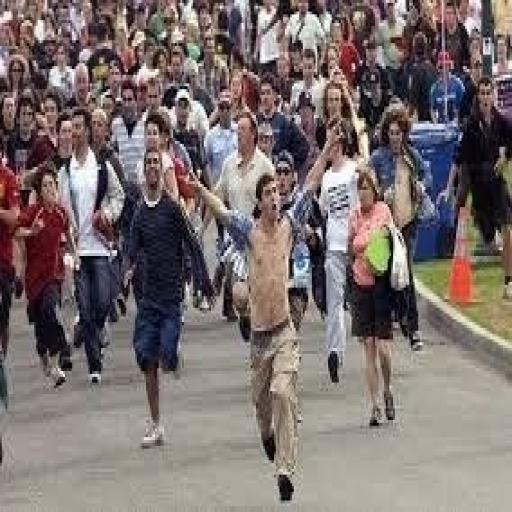running: (186, 158, 321, 504), (118, 135, 216, 452), (56, 104, 128, 391), (342, 161, 404, 432), (12, 158, 78, 391)
